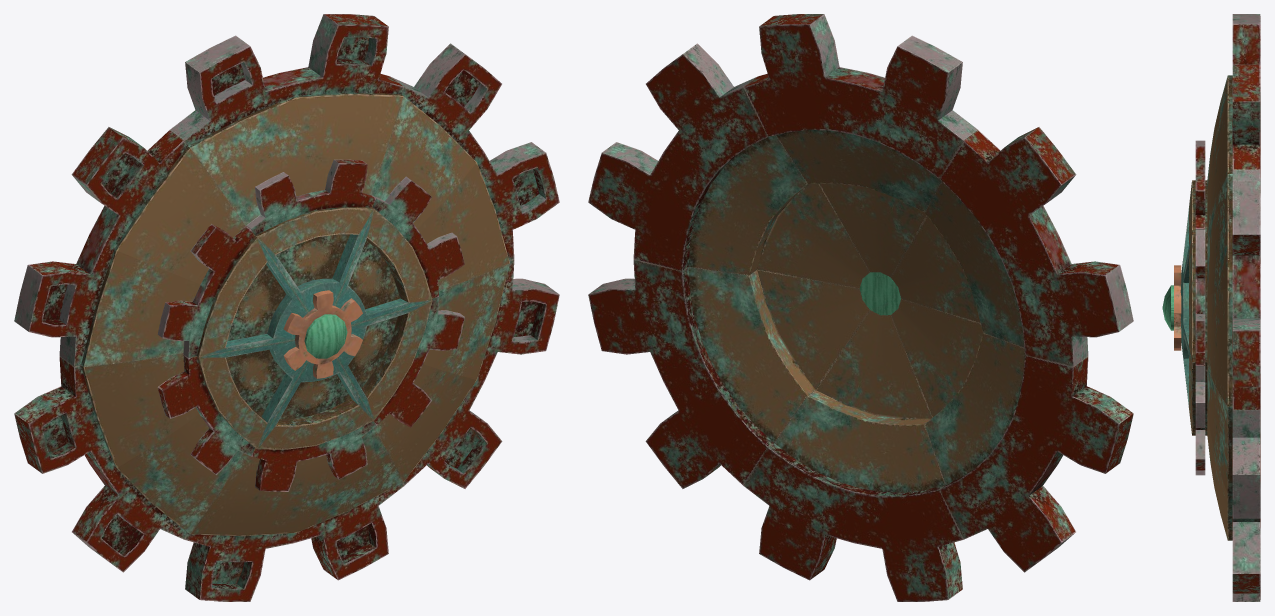
File: Shield_PlayerCharacter_Mesh.fbx
The picture shows the model from 3 angles, left to right: view 1: azimuth 30°, elevation 25°; view 2: azimuth 150°, elevation 25°; view 3: azimuth 270°, elevation 25°; orthographic projection. The views are drawn at different scales.
Parts seen in each view (by area): view 1: Shield.AxisCore; view 2: Shield.AxisCore; view 3: Shield.AxisCore.
Part boxes in pixels (bbox=[...]): Shield.AxisCore: bbox=[14, 14, 559, 601]; Shield.AxisCore: bbox=[588, 14, 1133, 601]; Shield.AxisCore: bbox=[1162, 14, 1260, 601].
Size of the model in its own units: 603 by 603 by 102.
1 material, 1 textured.
